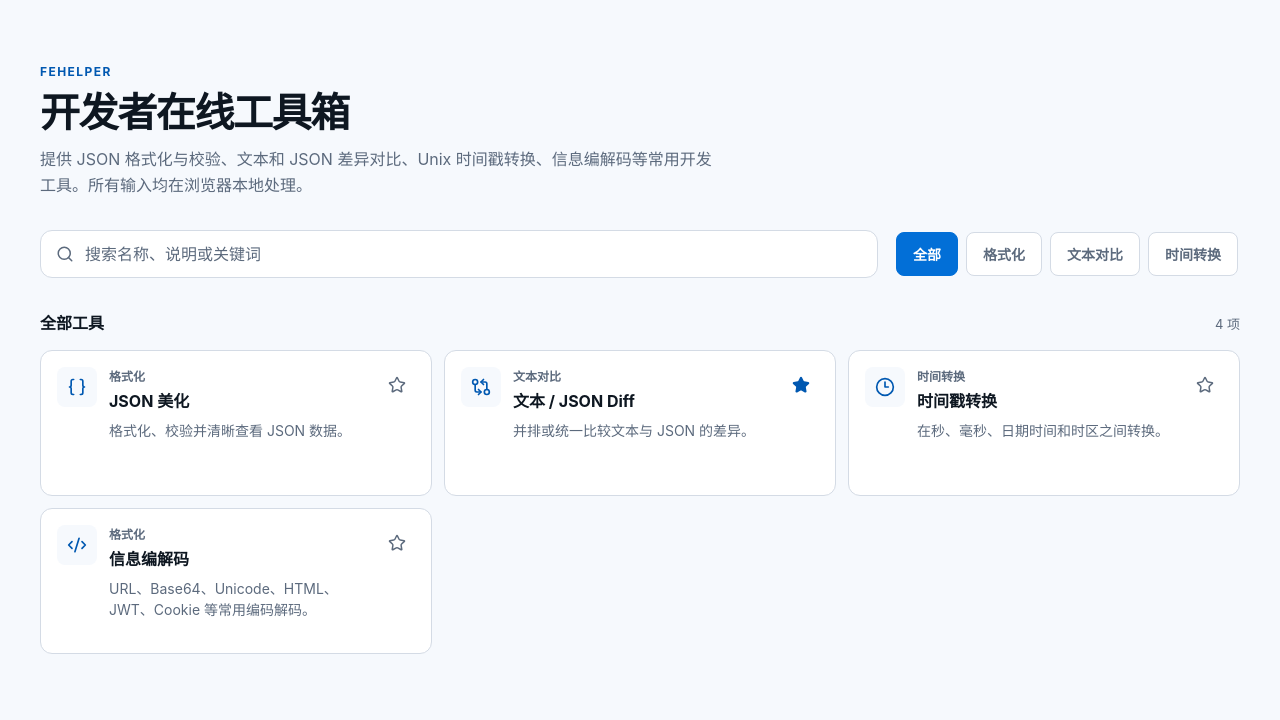
clears search and category filters from the empty state
This screenshot has width=1280, height=720.
Click the button "文本对比": (1095, 254) [1050,232,1140,276]
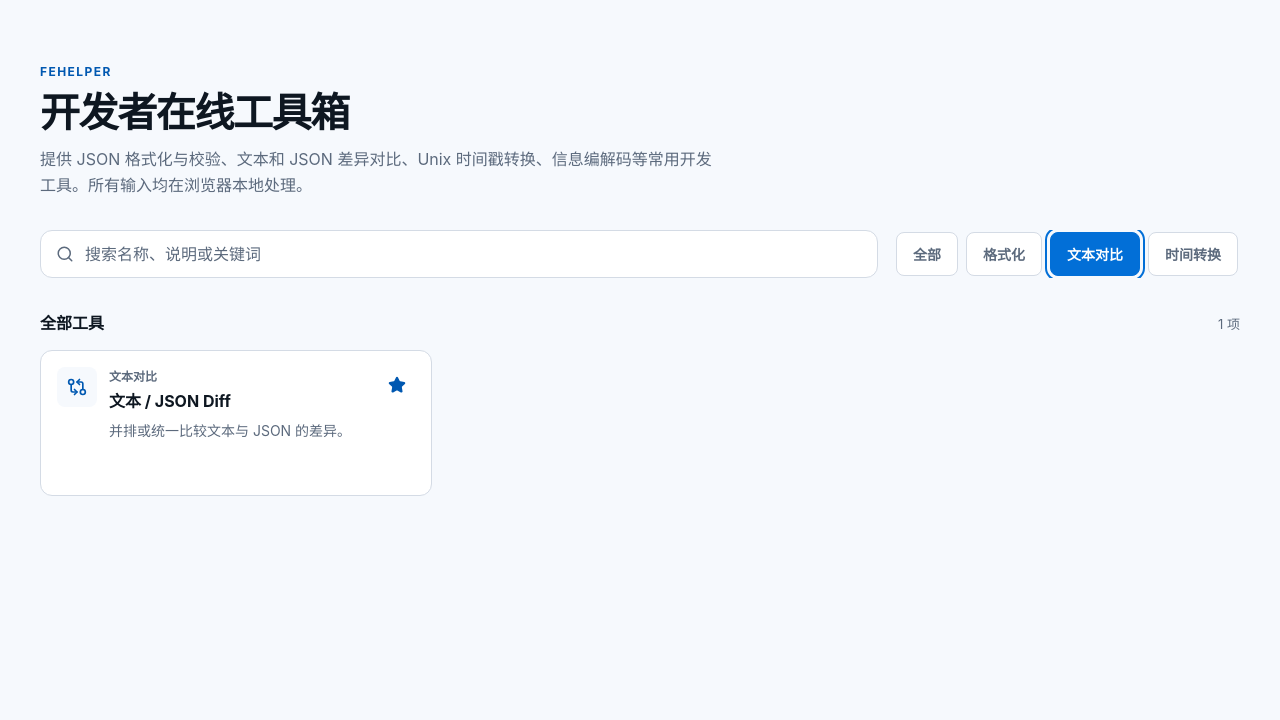
In the search field: (459, 254) [40,230,878,278], type "毫秒"
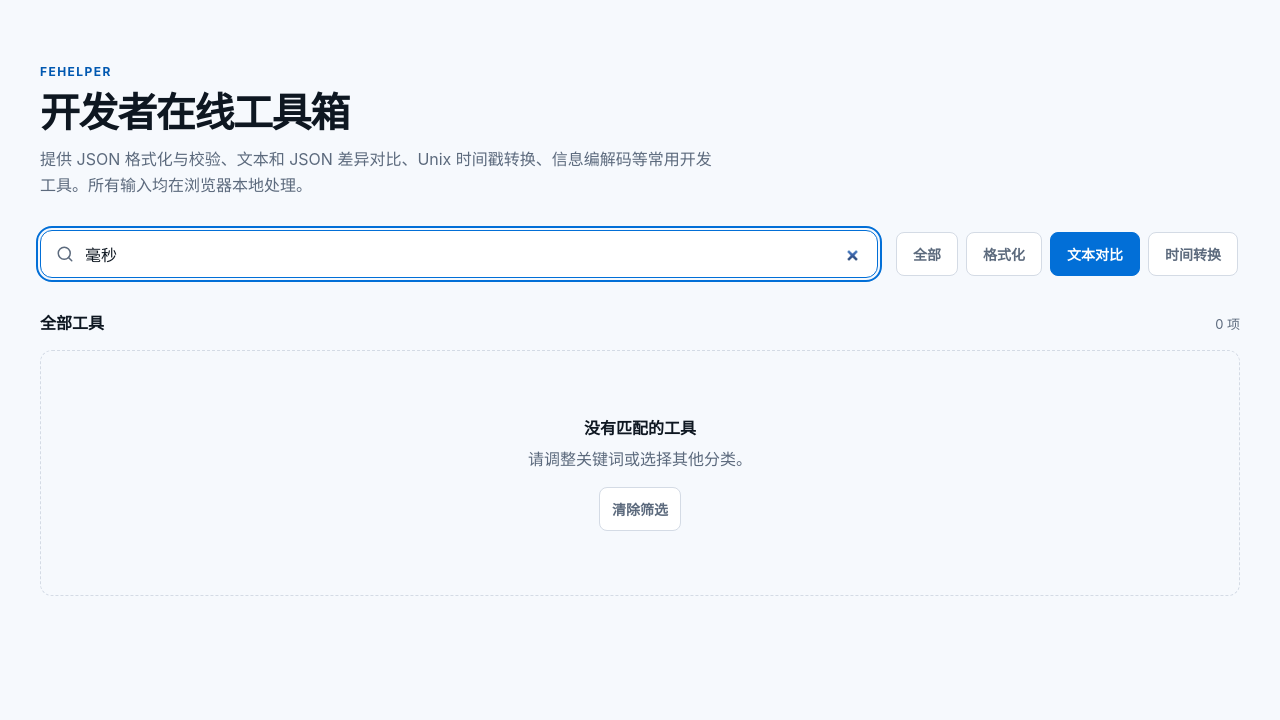
Check: the heading "没有匹配的工具" is shown, box [584,418,696,438]
Click the button "清除筛选": (640, 509) [599,487,681,531]
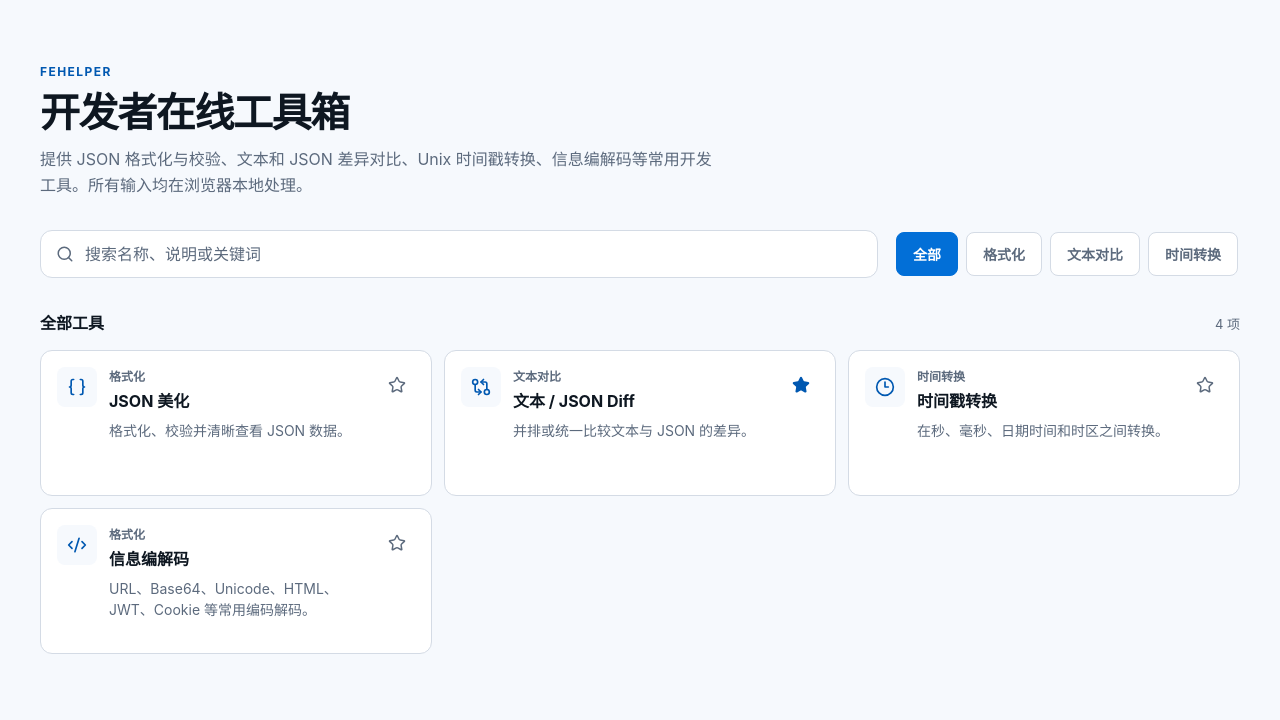
Check: the search field is empty, box [40,230,878,278]
Check: the link "格式化 JSON 美化 格式化、校验并清晰查看 JSON 数据。" is shown, box [57,367,351,439]
Check: the link "文本对比 文本 / JSON Diff 并排或统一比较文本与 JSON 的差异。" is shown, box [461,367,755,439]
